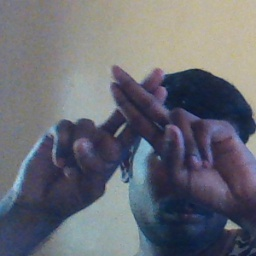F: (74, 61, 204, 182)
